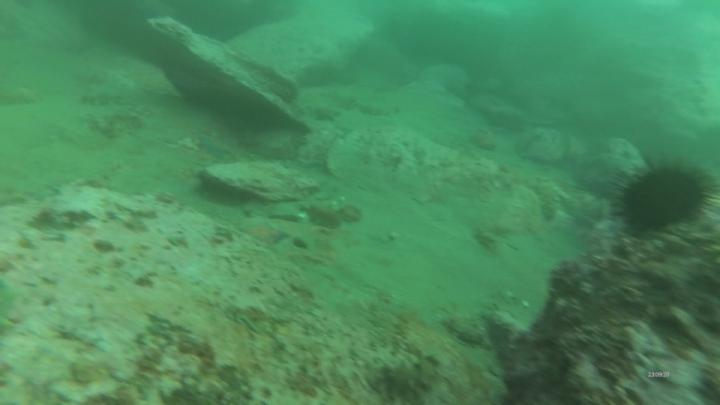echinus: (622, 167, 708, 238)
holothurian: (370, 352, 443, 397), (533, 174, 561, 227)
starfish: (240, 218, 293, 250), (198, 136, 235, 162)
